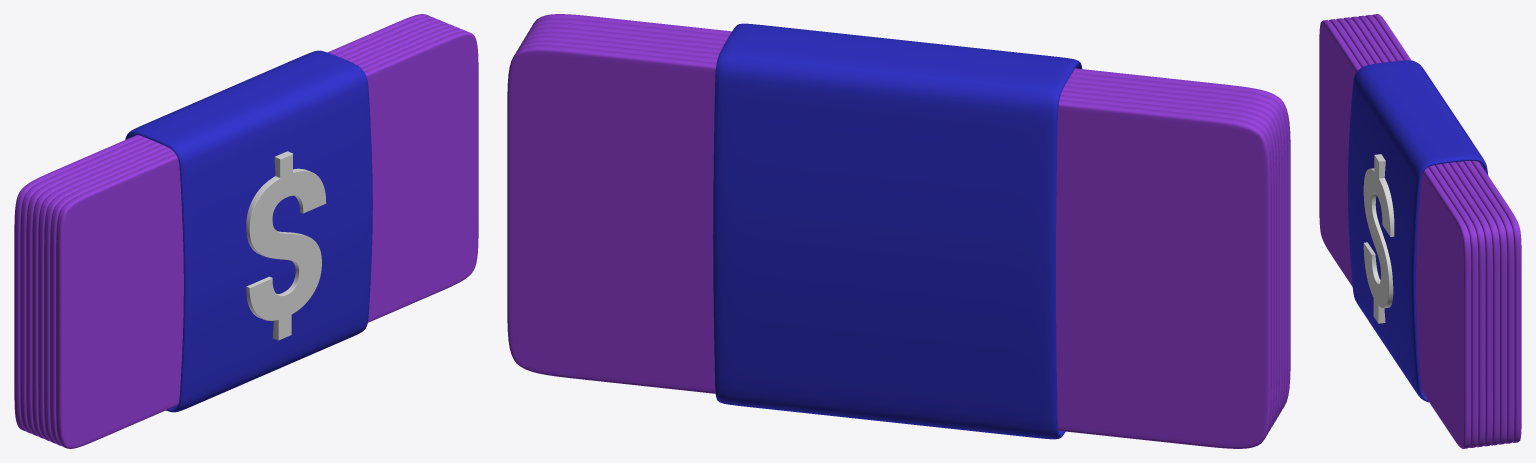
Rendered from part-time-job.glb.
3 views of the same model, side by side, from view 1: azimuth 30°, elevation 25°; view 2: azimuth 150°, elevation 25°; view 3: azimuth 270°, elevation 25° (orthographic). The views are drawn at different scales.
Visible parts, largest first — view 1: money; view 2: money; view 3: money.
Part boxes in pixels (left/top/right/bottom): money: left=14, top=14, right=478, bottom=448; money: left=507, top=14, right=1290, bottom=448; money: left=1319, top=14, right=1521, bottom=448.
Bounding box in the file's own units: 1.99 × 1 × 0.7552.
